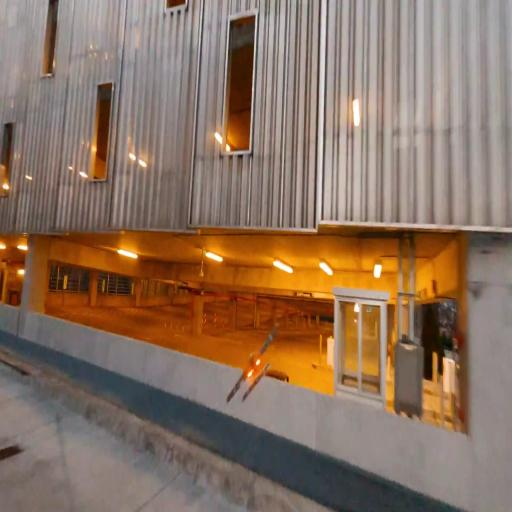uav: (222, 316, 282, 414)
